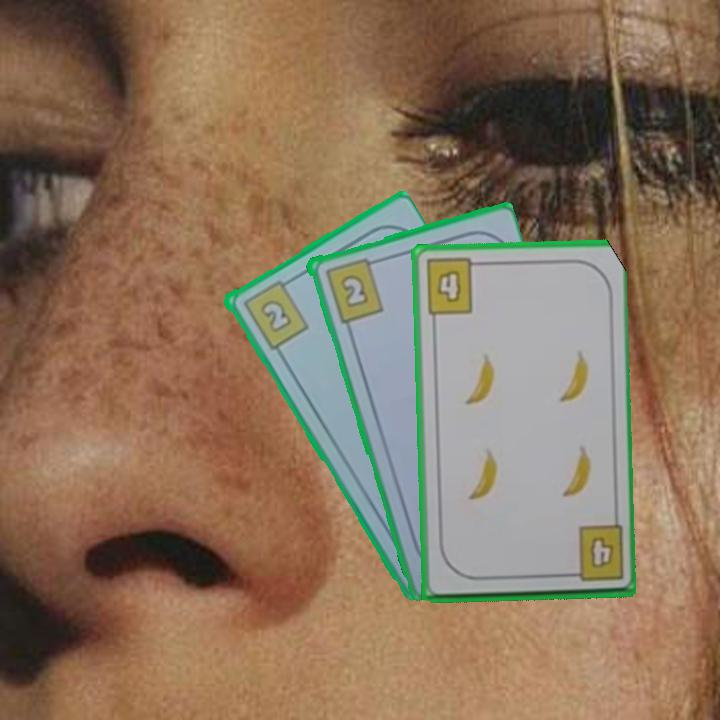2b: (238, 274, 311, 352), (321, 254, 386, 325)
4b: (561, 522, 626, 585), (422, 255, 484, 317)
